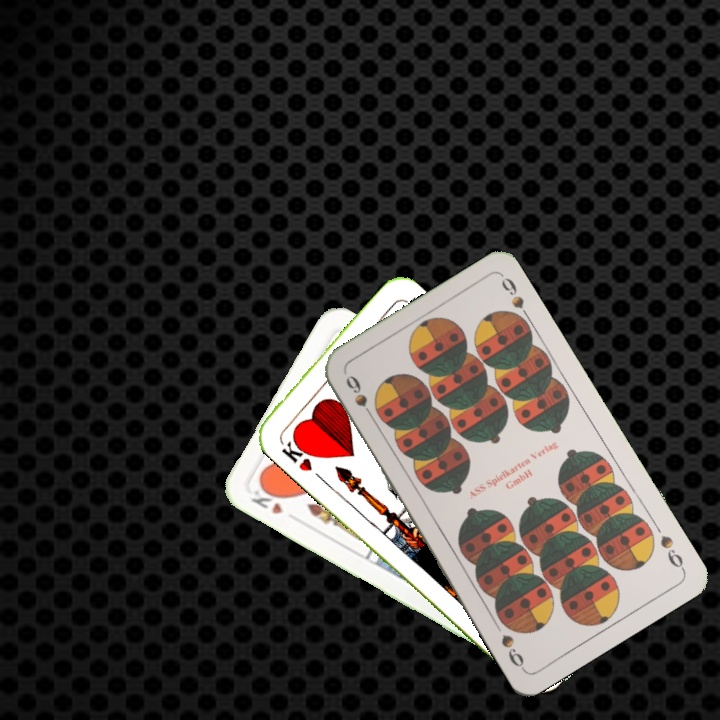HK: (275, 432, 318, 474), (247, 479, 287, 517)
S9: (341, 371, 378, 424), (655, 531, 688, 574)
